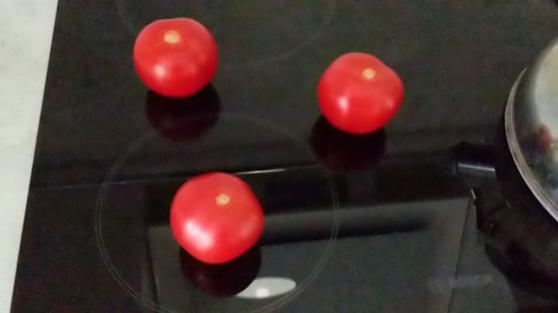tomato: (168, 172, 265, 266), (320, 49, 406, 135), (132, 16, 220, 99)
